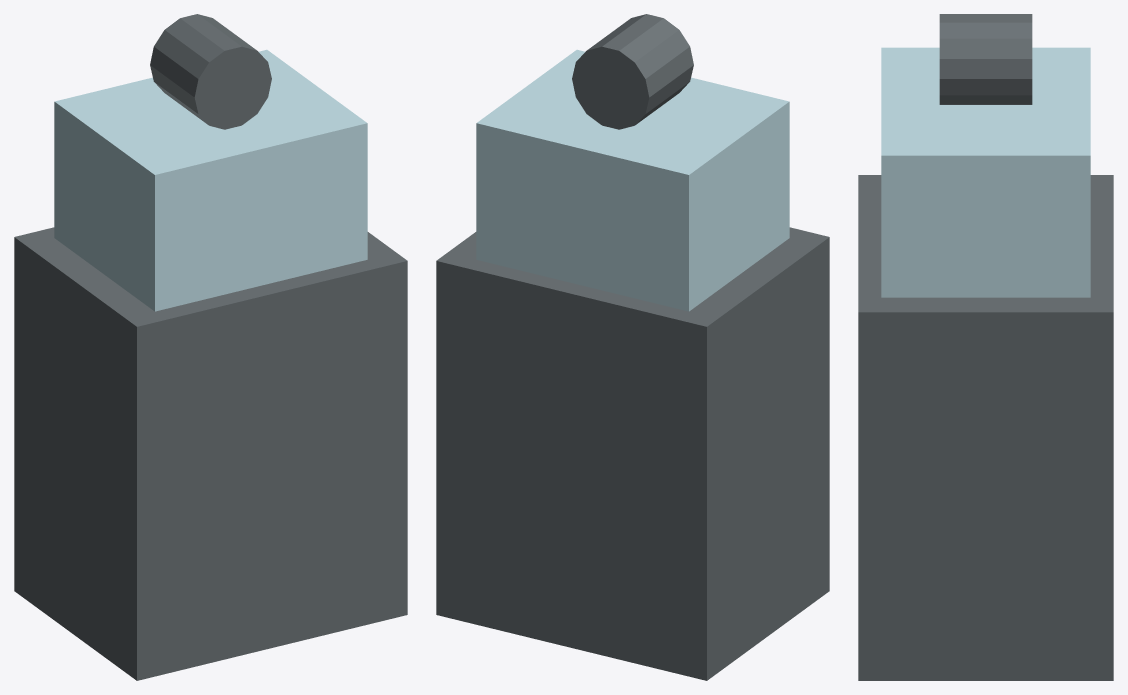
File: coffee_maker.glb
The picture shows the model from 3 angles, left to right: view 1: azimuth 30°, elevation 25°; view 2: azimuth 150°, elevation 25°; view 3: azimuth 270°, elevation 25°; orthographic projection. The views are drawn at different scales.
Parts seen in each view (by area): view 1: p000, p001, p002; view 2: p000, p001, p002; view 3: p000, p001, p002.
Boxes of the visible parts, box(x1,y1,x2,y2) form: p000: box(14, 227, 407, 680); p001: box(54, 49, 367, 311); p002: box(150, 14, 271, 129); p000: box(436, 227, 829, 680); p001: box(476, 49, 789, 311); p002: box(572, 14, 693, 129); p000: box(858, 175, 1113, 680); p001: box(881, 47, 1090, 297); p002: box(939, 14, 1032, 104).
Size of the model in its own units: 0.28 by 0.564 by 0.22.
